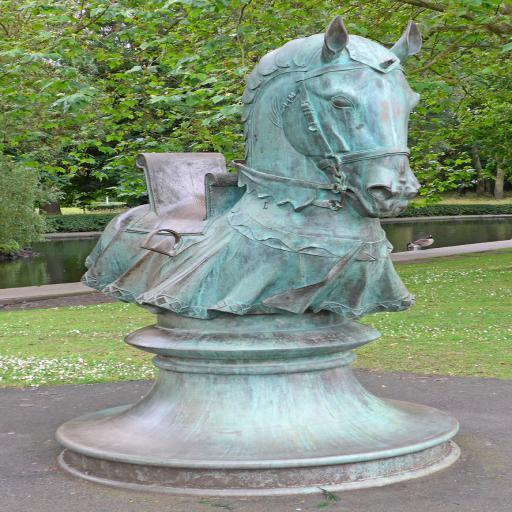horse: (79, 15, 425, 321)
